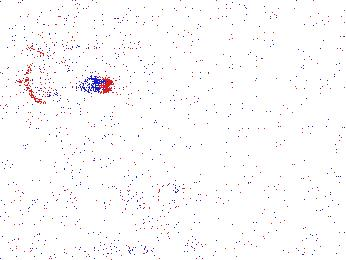flame jellyfish: (24, 54, 112, 106), (120, 172, 188, 224), (2, 168, 55, 221)
